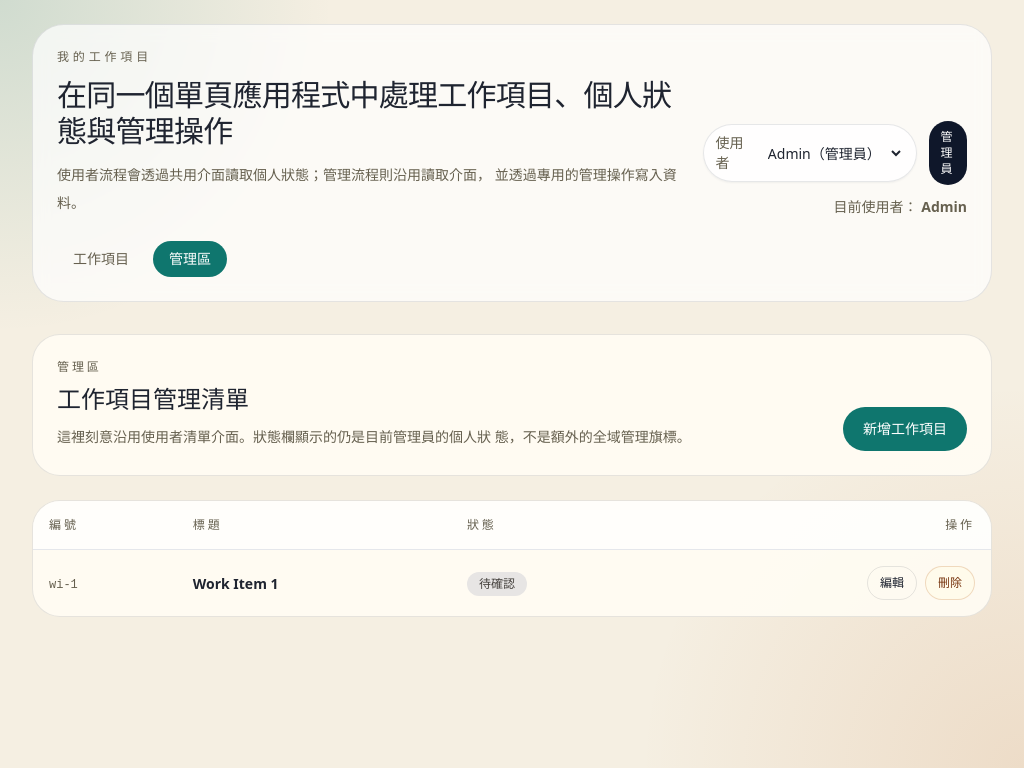
Test: AdminWorkItemsPage › AdminWorkItemsPage_WhenDeleteFails_ShowsErrorAndKeepsRow
Expected: the text "Work Item 1" is shown, [193,574,279,593]
Click the button "刪除" at (950, 583), box [925,566,975,600]
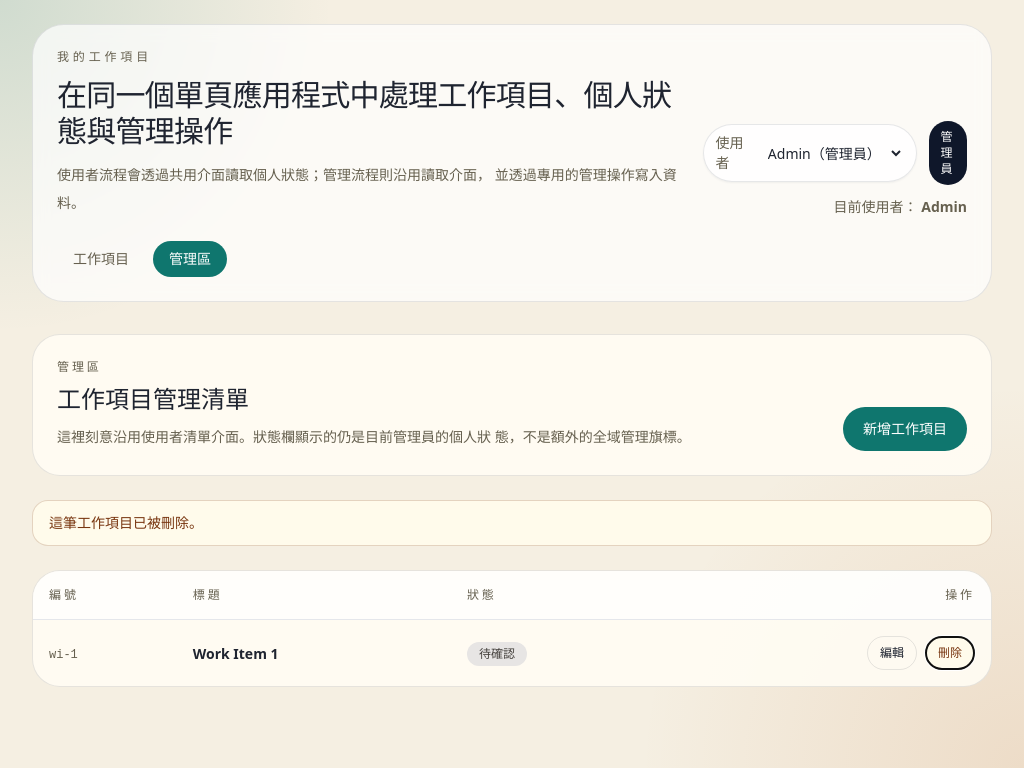
Expected: the text "Work Item 1" is shown, [193,644,279,663]
Result: the text "這筆工作項目已被刪除。" is shown at [32,500,992,546]
